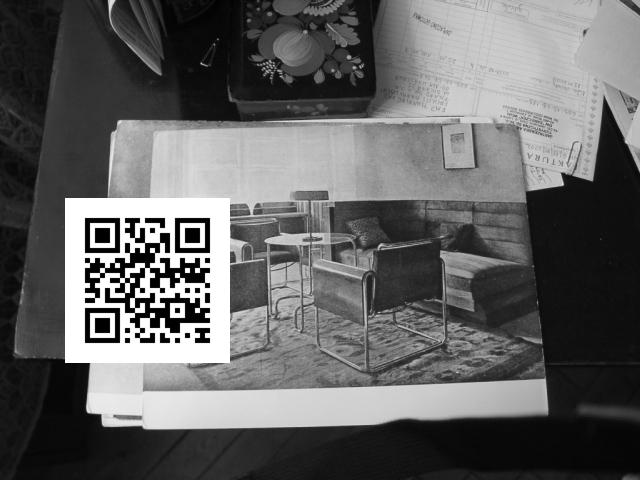qr_code: (65, 197, 230, 362)
